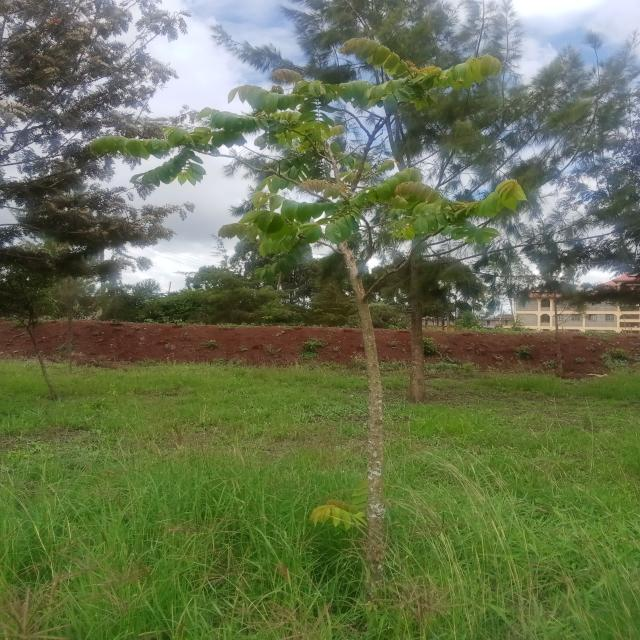Polyscias Kikuyensis: (80, 35, 560, 582)
